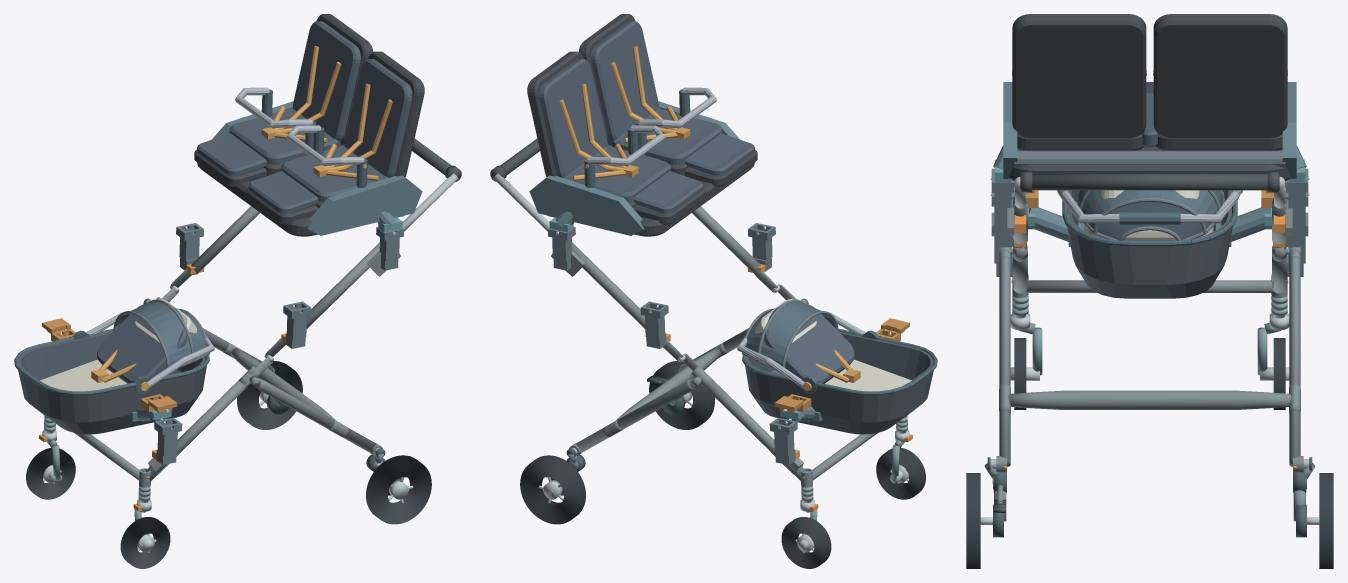
Rendered from D25_w650_state1_wheel_S.glb.
The picture shows the model from 3 angles, left to right: view 1: azimuth 30°, elevation 25°; view 2: azimuth 150°, elevation 25°; view 3: azimuth 270°, elevation 25°; orthographic projection. The views are drawn at different scales.
Visible parts, largest first — view 1: D25_Upper, D25_Lower, RL_tire.008, RR_tire.008, FL_tire.008, FR_tire.008, V46_rear_leg_-1.009, main_lower_-1.009, main_upper_-1.009, V46_rearbar.009, main_upper_1.009, Universal_Cabin_Receiver_M_-1 (+6 smaller); view 2: D25_Upper, D25_Lower, RR_tire.008, FR_tire.008, RL_tire.008, FL_tire.008, V46_rear_leg_1.009, main_lower_1.009, main_upper_1.009, V46_rearbar.009, main_upper_-1.009, Universal_Cabin_Receiver_M_1 (+6 smaller); view 3: D25_Upper, D25_Lower, V46_rearbar.009, round_handle.008, V46_rear_leg_1.009, V46_rear_leg_-1.009, D25_Lower_Mount_L, front_fixed_round_tube.008, RL_tire.008, RR_tire.008, Universal_Cabin_Receiver_H_1, Universal_Cabin_Receiver_H_-1 (+7 smaller).
Part boxes in pixels (x1=…): D25_Upper: x1=194, y1=14, x2=424, y2=236; D25_Lower: x1=14, y1=299, x2=214, y2=434; RL_tire.008: x1=366, y1=455, x2=431, y2=524; RR_tire.008: x1=237, y1=361, x2=302, y2=429; FL_tire.008: x1=120, y1=517, x2=170, y2=568; FR_tire.008: x1=26, y1=448, x2=75, y2=499; V46_rear_leg_-1.009: x1=257, y1=380, x2=376, y2=452; main_lower_-1.009: x1=145, y1=380, x2=249, y2=481; main_upper_-1.009: x1=306, y1=242, x2=379, y2=328; V46_rearbar.009: x1=230, y1=348, x2=336, y2=420; main_upper_1.009: x1=191, y1=206, x2=259, y2=273; Universal_Cabin_Receiver_M_-1: x1=283, y1=301, x2=311, y2=348; D25_Upper: x1=527, y1=14, x2=757, y2=236; D25_Lower: x1=737, y1=299, x2=937, y2=434; RR_tire.008: x1=520, y1=455, x2=585, y2=524; FR_tire.008: x1=781, y1=517, x2=831, y2=568; RL_tire.008: x1=649, y1=361, x2=714, y2=429; FL_tire.008: x1=876, y1=448, x2=925, y2=499; V46_rear_leg_1.009: x1=575, y1=380, x2=694, y2=452; main_lower_1.009: x1=702, y1=380, x2=806, y2=481; main_upper_1.009: x1=572, y1=242, x2=645, y2=328; V46_rearbar.009: x1=615, y1=348, x2=721, y2=420; main_upper_-1.009: x1=692, y1=206, x2=760, y2=273; Universal_Cabin_Receiver_M_1: x1=640, y1=301, x2=668, y2=348; D25_Upper: x1=1003, y1=14, x2=1296, y2=181; D25_Lower: x1=1057, y1=190, x2=1242, y2=298; V46_rearbar.009: x1=1008, y1=390, x2=1291, y2=409; round_handle.008: x1=1020, y1=174, x2=1279, y2=190; V46_rear_leg_1.009: x1=1289, y1=256, x2=1300, y2=467; V46_rear_leg_-1.009: x1=999, y1=256, x2=1010, y2=467; D25_Lower_Mount_L: x1=1028, y1=207, x2=1271, y2=246; front_fixed_round_tube.008: x1=1026, y1=280, x2=1273, y2=292; RL_tire.008: x1=966, y1=473, x2=980, y2=568; RR_tire.008: x1=1319, y1=473, x2=1333, y2=568; Universal_Cabin_Receiver_H_1: x1=1285, y1=168, x2=1308, y2=233; Universal_Cabin_Receiver_H_-1: x1=991, y1=168, x2=1014, y2=233.
Bounding box in the file's own units: 1.27 × 1.32 × 0.766.
